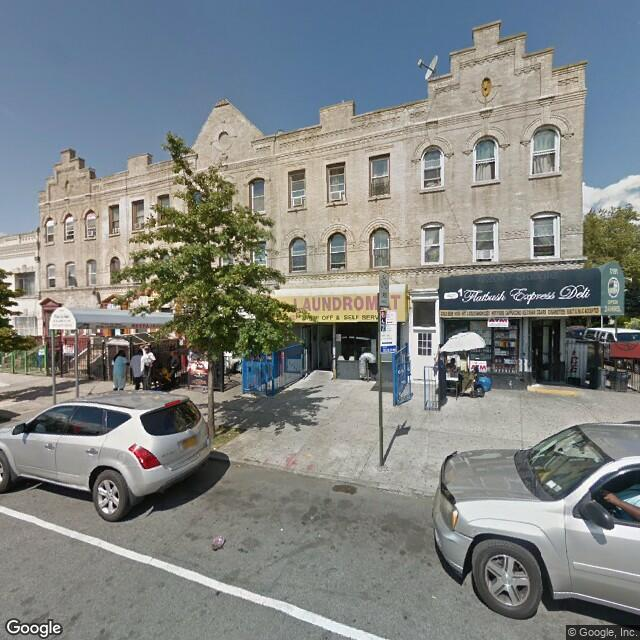litter: (204, 531, 239, 558), (210, 441, 222, 455)
